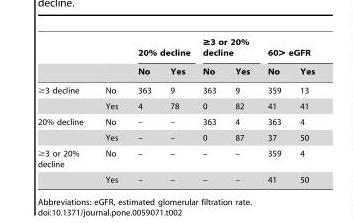table: (37, 37, 314, 183)
table column: (37, 37, 93, 183), (160, 37, 195, 183), (93, 37, 127, 183), (127, 37, 160, 183), (225, 37, 258, 183), (258, 37, 289, 183), (195, 37, 225, 183), (289, 37, 314, 183)
table column header: (37, 37, 314, 80)
table row: (37, 145, 314, 171), (37, 37, 314, 61), (37, 61, 314, 80), (37, 80, 314, 98), (37, 113, 314, 129), (37, 129, 314, 145), (37, 98, 314, 113), (37, 171, 314, 183)
table spanning cell: (37, 145, 93, 183), (37, 80, 93, 113), (37, 113, 93, 145), (127, 37, 195, 61), (195, 37, 258, 61), (258, 37, 314, 61)
